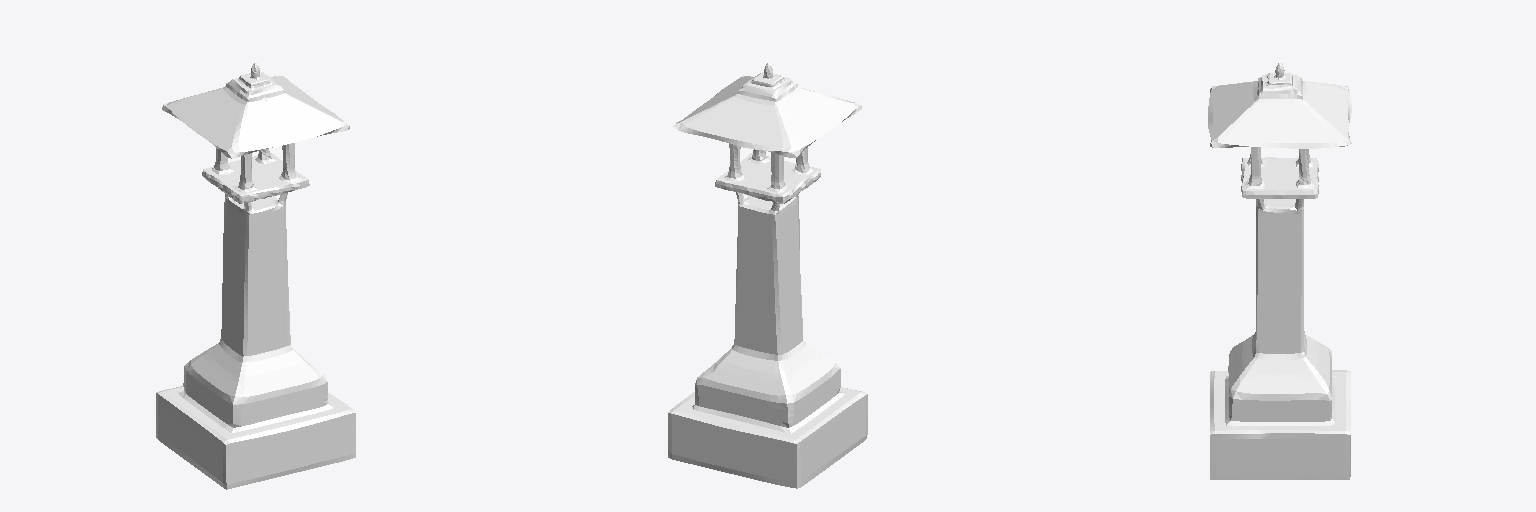
File: lightUp.obj
3 renders of one model, left to right at view 1: azimuth 30°, elevation 25°; view 2: azimuth 150°, elevation 25°; view 3: azimuth 270°, elevation 25°, orthographic.
Visible parts, largest first — view 1: Volume24; view 2: Volume24; view 3: Volume24.
Part boxes in pixels (bbox=[...]): Volume24: bbox=[156, 63, 355, 489]; Volume24: bbox=[668, 63, 867, 488]; Volume24: bbox=[1208, 63, 1351, 479].
Bounding box in the file's own units: 126 × 356 × 120.